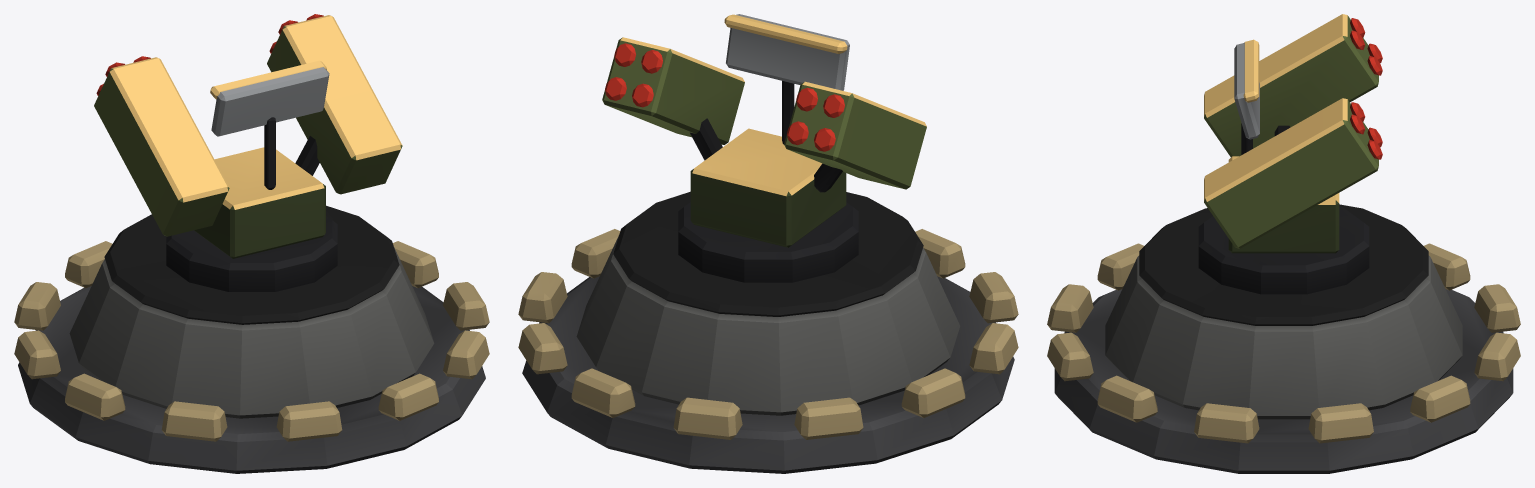
The model's file is defense_aa.glb.
3 views of the same model, side by side, from view 1: azimuth 30°, elevation 25°; view 2: azimuth 150°, elevation 25°; view 3: azimuth 270°, elevation 25° (orthographic). The views are drawn at different scales.
Visible parts, largest first — view 1: defense_aa, Turret; view 2: defense_aa, Turret; view 3: defense_aa, Turret.
Part boxes in pixels (x1=…): defense_aa: x1=14, y1=205, x2=489, y2=473; Turret: x1=94, y1=14, x2=402, y2=258; defense_aa: x1=518, y1=191, x2=1018, y2=473; Turret: x1=602, y1=14, x2=926, y2=247; defense_aa: x1=1047, y1=204, x2=1520, y2=473; Turret: x1=1204, y1=14, x2=1382, y2=253.
Bounding box in the file's own units: 1.29 × 0.9377 × 1.29.
